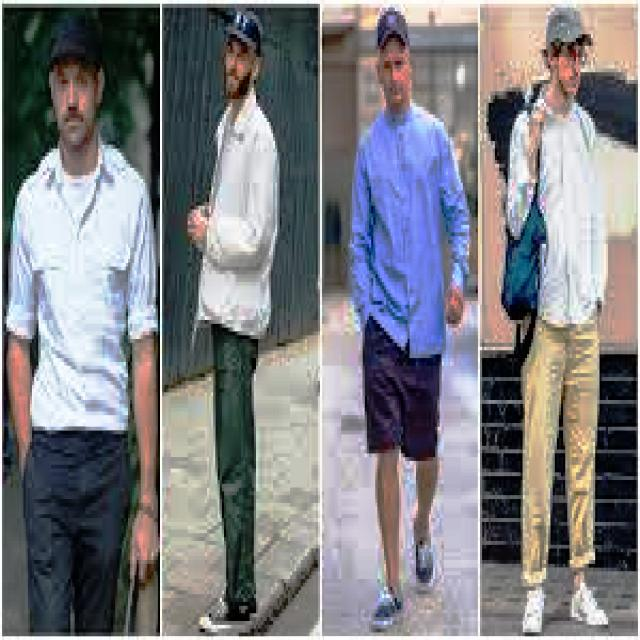TOPI: (38, 12, 109, 76), (538, 0, 595, 57), (369, 0, 412, 61), (220, 8, 264, 61)
